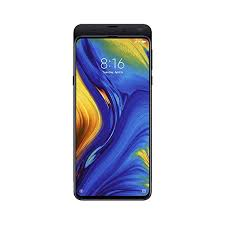mi: (69, 21, 157, 201)
